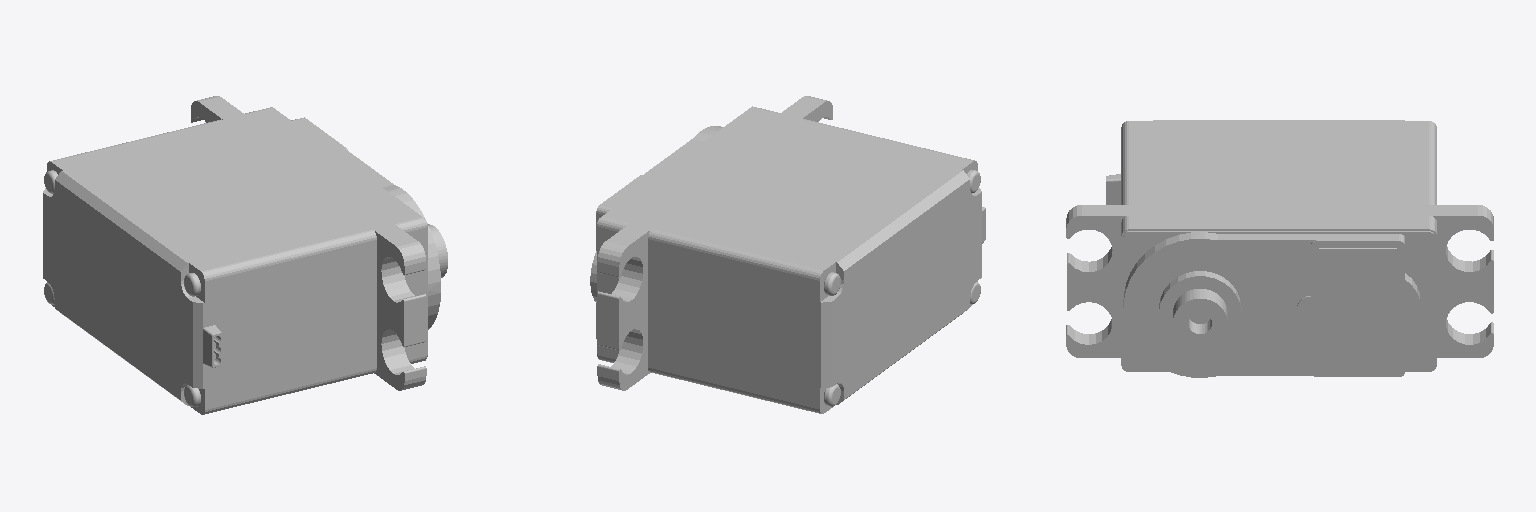
Rendered from motor.obj.
3 views of the same model, side by side, from view 1: azimuth 30°, elevation 25°; view 2: azimuth 150°, elevation 25°; view 3: azimuth 270°, elevation 25° (orthographic).
Parts seen in each view (by area): view 1: black_motor; view 2: black_motor; view 3: black_motor.
Part boxes in pixels (bbox=[...]): black_motor: bbox=[43, 96, 447, 414]; black_motor: bbox=[590, 96, 985, 413]; black_motor: bbox=[1066, 120, 1493, 377].
Bounding box in the file's own units: 1.6 × 0.7874 × 2.14.